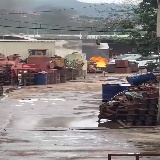fire: (90, 56, 108, 66)
